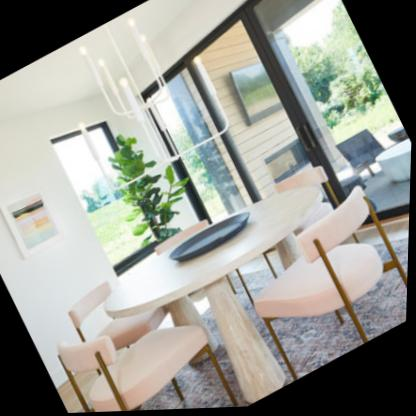Dining Table: (41, 154, 412, 415)
